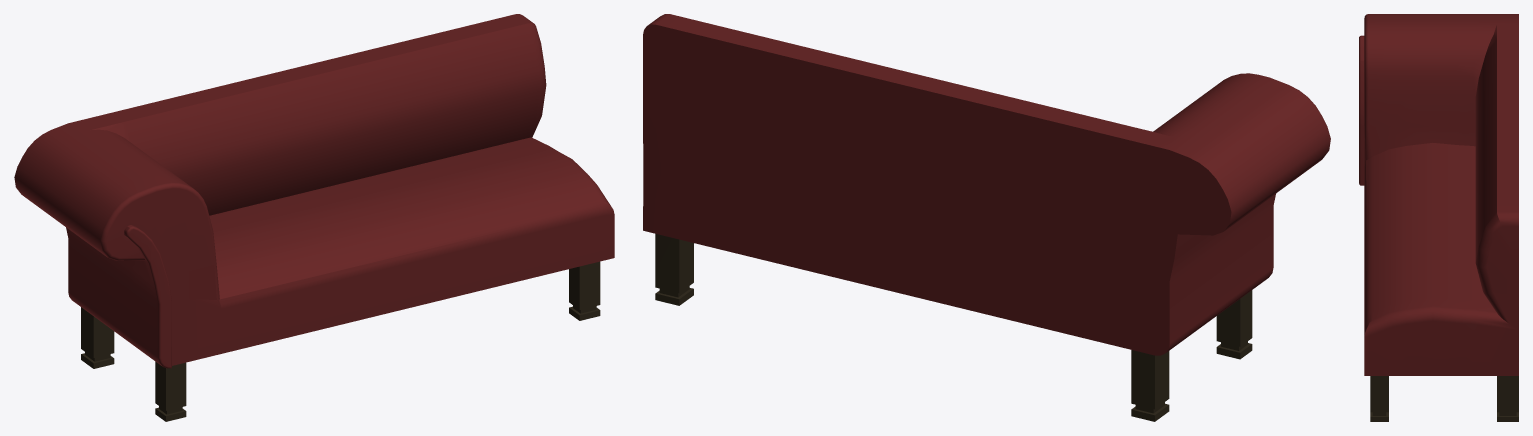
The model's file is Sillon.fbx.
3 views of the same model, side by side, from view 1: azimuth 30°, elevation 25°; view 2: azimuth 150°, elevation 25°; view 3: azimuth 270°, elevation 25° (orthographic). The views are drawn at different scales.
Parts seen in each view (by area): view 1: Corredor_Sillon; view 2: Corredor_Sillon; view 3: Corredor_Sillon.
Part boxes in pixels (<box>): Corredor_Sillon: <box>14,14,614,421</box>; Corredor_Sillon: <box>643,14,1330,421</box>; Corredor_Sillon: <box>1359,14,1518,421</box>.
Bounding box in the file's own units: 2347 × 1050 × 725.
